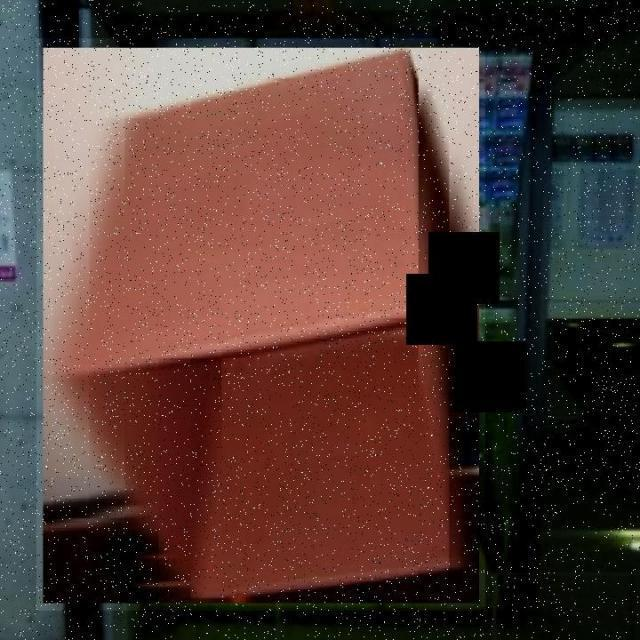box: (37, 38, 486, 611)
